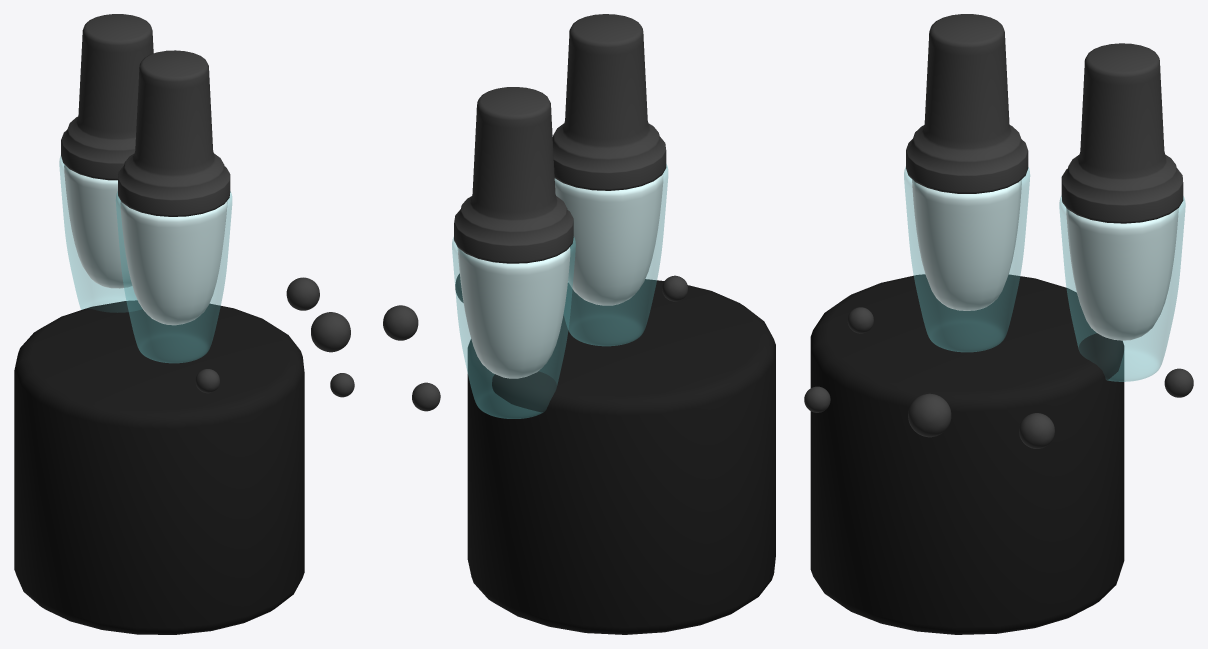
File: banner_1_78ec.glb
3 views of the same model, side by side, from view 1: azimuth 30°, elevation 25°; view 2: azimuth 150°, elevation 25°; view 3: azimuth 270°, elevation 25° (orthographic). The views are drawn at different scales.
Parts seen in each view (by area): view 1: Cylinder, bottle, cap, cap.001, Cube, bottle.001, Cube.001, Icosphere.001, Icosphere.002, Icosphere.004, Icosphere; view 2: Cylinder, bottle.001, cap.001, cap, bottle, Cube.001, Cube, Icosphere.002, Icosphere.003, Icosphere; view 3: Cylinder, bottle, bottle.001, cap, cap.001, Cube.001, Cube, Icosphere.001, Icosphere.002, Icosphere.003, Icosphere, Icosphere.004.
Boxes of the visible parts, bbox=[...] form: Cylinder: bbox=[14, 300, 304, 634]; bottle: bbox=[116, 191, 231, 362]; cap: bbox=[118, 50, 230, 216]; cap.001: bbox=[61, 14, 153, 180]; Cube: bbox=[120, 200, 227, 325]; bottle.001: bbox=[59, 156, 136, 312]; Cube.001: bbox=[64, 164, 131, 288]; Icosphere.001: bbox=[311, 312, 350, 352]; Icosphere.002: bbox=[286, 277, 319, 310]; Icosphere.004: bbox=[330, 373, 354, 397]; Icosphere: bbox=[195, 369, 219, 393]; Cylinder: bbox=[467, 279, 775, 634]; bottle.001: bbox=[452, 237, 575, 418]; cap.001: bbox=[454, 87, 573, 263]; cap: bbox=[552, 14, 666, 190]; bottle: bbox=[555, 164, 667, 345]; Cube.001: bbox=[457, 247, 570, 378]; Cube: bbox=[554, 174, 663, 305]; Icosphere.002: bbox=[383, 305, 418, 340]; Icosphere.003: bbox=[412, 382, 440, 411]; Icosphere: bbox=[662, 275, 687, 301]; Cylinder: bbox=[810, 274, 1124, 634]; bottle: bbox=[904, 167, 1029, 351]; bottle.001: bbox=[1059, 196, 1185, 381]; cap: bbox=[906, 14, 1028, 193]; cap.001: bbox=[1061, 43, 1183, 223]; Cube.001: bbox=[1066, 207, 1178, 340]; Cube: bbox=[912, 179, 1021, 310]; Icosphere.001: bbox=[908, 393, 951, 437]; Icosphere.002: bbox=[1019, 413, 1054, 448]; Icosphere.003: bbox=[1164, 368, 1193, 397]; Icosphere: bbox=[847, 307, 873, 333]; Icosphere.004: bbox=[804, 386, 830, 412].
Bounding box in the file's own units: 1.87 × 2.91 × 1.85.
